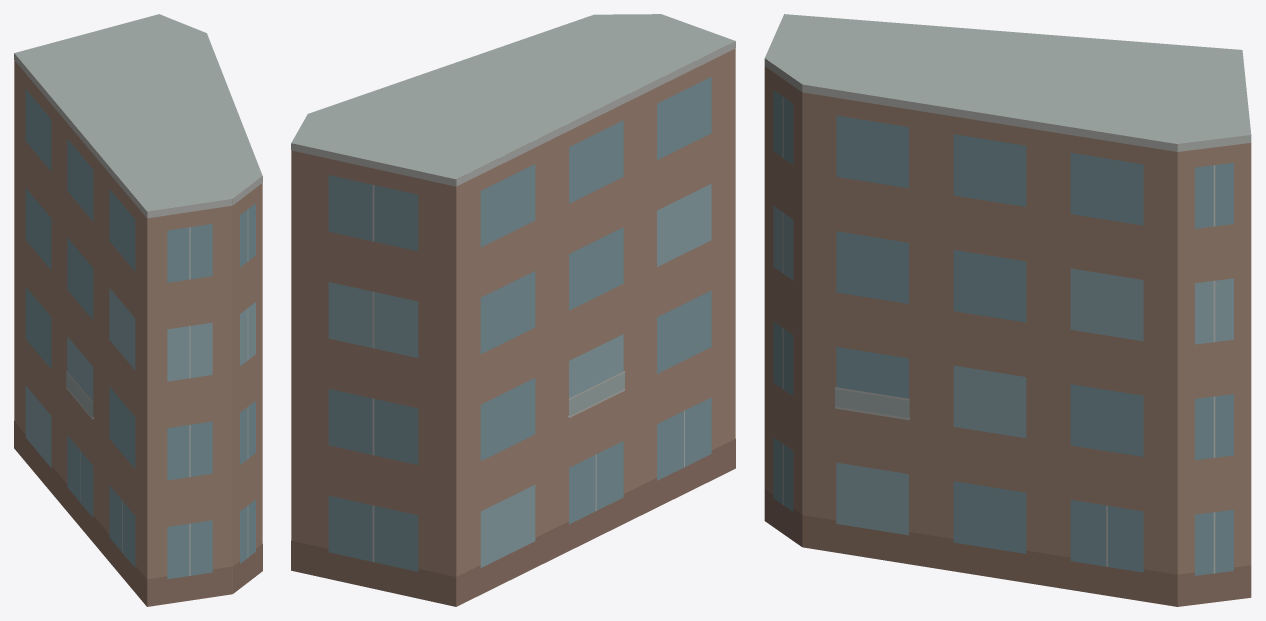
The model's file is survey-upis-33024710.glb.
3 renders of one model, left to right at view 1: azimuth 30°, elevation 25°; view 2: azimuth 150°, elevation 25°; view 3: azimuth 270°, elevation 25°, orthographic. The views are drawn at different scales.
Visible parts, largest first — view 1: survey-upis-33024710.tmp; view 2: survey-upis-33024710.tmp; view 3: survey-upis-33024710.tmp.
Part boxes in pixels (x1=…): survey-upis-33024710.tmp: x1=14, y1=14, x2=262, y2=606; survey-upis-33024710.tmp: x1=291, y1=14, x2=735, y2=606; survey-upis-33024710.tmp: x1=764, y1=14, x2=1251, y2=606.
Size of the model in its own units: 8.63 by 14.3 by 13.64.
